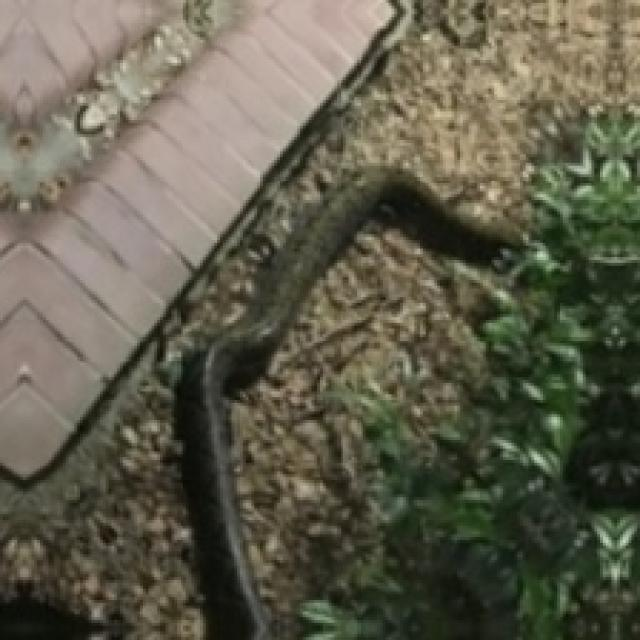reticulated python: (174, 166, 520, 637)
